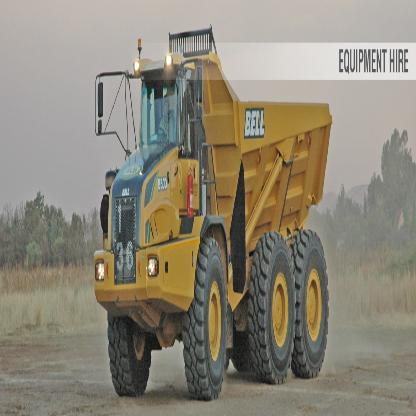dump_truck: (94, 31, 337, 415)
